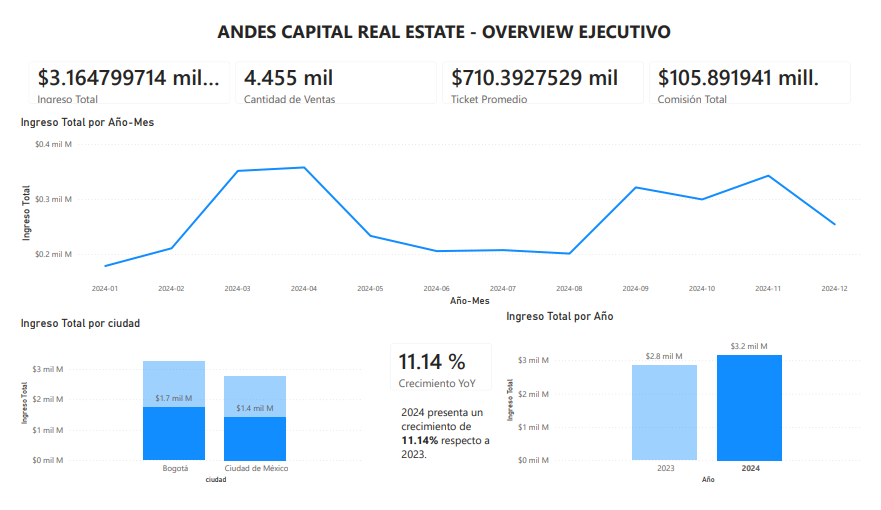

This screenshot's page, from the dashboard's own definition file:
{"tool":"powerbi","page":{"name":"Overview Ejecutivo","canvas":[1280,720],"ordinal":0},"visuals":[{"type":"textbox","box":[10,0,1270,53.3],"z":0},{"type":"cardVisual","fields":{"Data":["hecho_ventas_propiedades.Ingreso Total","hecho_ventas_propiedades.Cantidad de Ventas","hecho_ventas_propiedades.Ticket Promedio","hecho_ventas_propiedades.Comisión Total"]},"box":[5,53.3,1269.9,97.4],"z":1000},{"type":"lineChart","fields":{"Category":["Dim_Fecha.Año-Mes"],"Y":["hecho_ventas_propiedades.Ingreso Total"]},"box":[5,150,1270,291.7],"z":2000},{"type":"clusteredColumnChart","fields":{"Y":["hecho_ventas_propiedades.Ingreso Total"],"Category":["dim_clientes.ciudad"]},"box":[5,451.7,521.7,255],"z":3000},{"type":"cardVisual","fields":{"Data":["Dim_Fecha.Crecimiento YoY"]},"box":[546.7,475,186.7,105],"z":4000},{"type":"clusteredColumnChart","fields":{"Y":["hecho_ventas_propiedades.Ingreso Total"],"Category":["Dim_Fecha.Date.Variación.Jerarquía de fechas.Año"]},"box":[733.3,441.7,541.7,265],"z":5000},{"type":"textbox","box":[576,580.3,157,126.7],"z":6000}]}

Visuals, with their boxes in screenshot pixels (x1, y1, x2, y2), scaled from the page's 1280x720 canvas onto the 881x510 screenshot:
textbox: Rect(7, 0, 880, 38)
cardVisual - hecho_ventas_propiedades.Ingreso Total x hecho_ventas_propiedades.Cantidad de Ventas: Rect(3, 38, 877, 107)
lineChart - Dim_Fecha.Año-Mes x hecho_ventas_propiedades.Ingreso Total: Rect(3, 106, 878, 313)
clusteredColumnChart - hecho_ventas_propiedades.Ingreso Total x dim_clientes.ciudad: Rect(3, 320, 363, 501)
cardVisual - Dim_Fecha.Crecimiento YoY: Rect(376, 336, 505, 411)
clusteredColumnChart - hecho_ventas_propiedades.Ingreso Total x Dim_Fecha.Date.Variación.Jerarquía de fechas.Año: Rect(505, 313, 878, 501)
textbox: Rect(396, 411, 505, 501)
